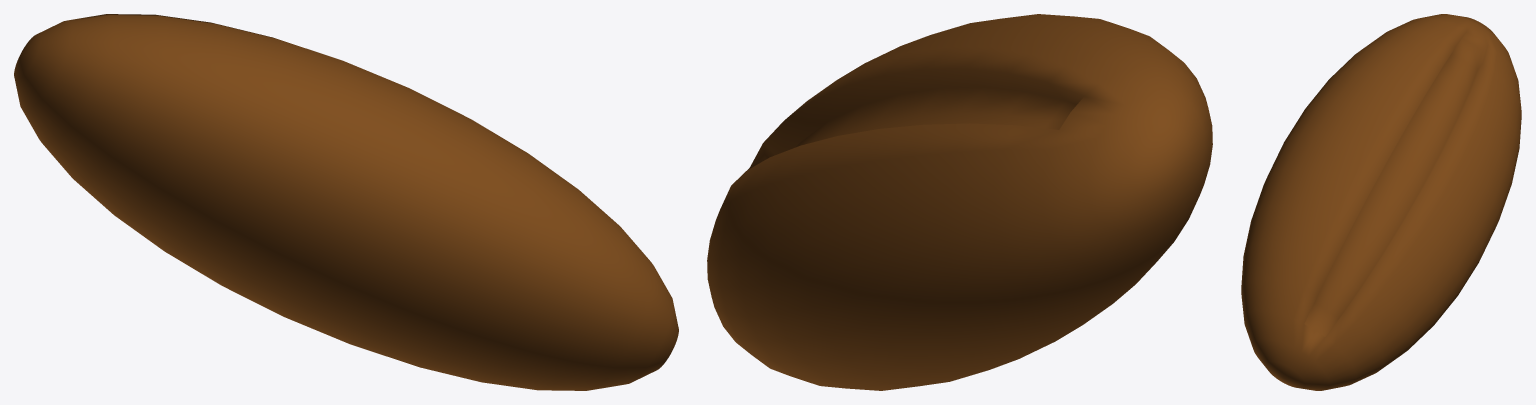
The model's file is semilla.fbx.
3 renders of one model, left to right at view 1: azimuth 30°, elevation 25°; view 2: azimuth 150°, elevation 25°; view 3: azimuth 270°, elevation 25°, orthographic. The views are drawn at different scales.
Parts seen in each view (by area): view 1: Sphere.002; view 2: Sphere.002; view 3: Sphere.002.
Boxes of the visible parts, left/top/right/bottom form: Sphere.002: left=14, top=14, right=678, bottom=390; Sphere.002: left=707, top=14, right=1212, bottom=390; Sphere.002: left=1241, top=14, right=1521, bottom=390.
Size of the model in its own units: 5.94 by 4.25 by 4.38.
